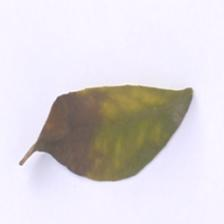black spot: (8, 77, 114, 182)
